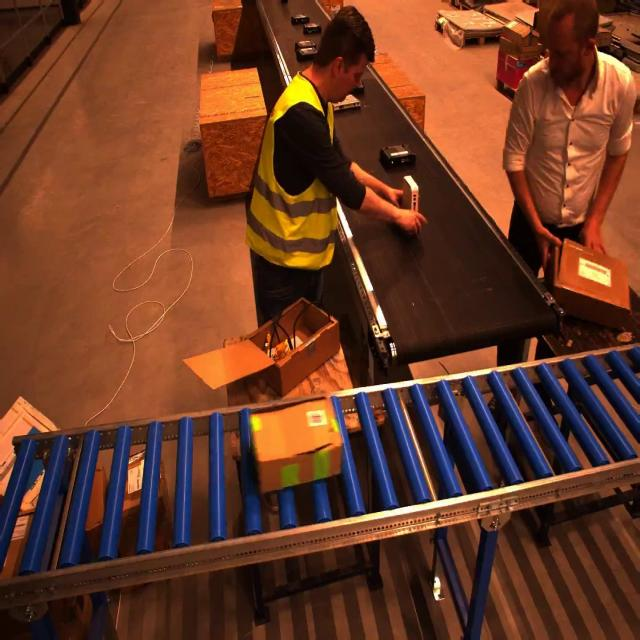box: (545, 227, 635, 335), (248, 396, 347, 488), (245, 298, 337, 384)
product: (381, 137, 417, 167), (402, 174, 420, 225), (326, 88, 361, 113), (297, 47, 320, 64), (291, 12, 311, 25), (294, 41, 315, 52), (305, 23, 323, 34)
